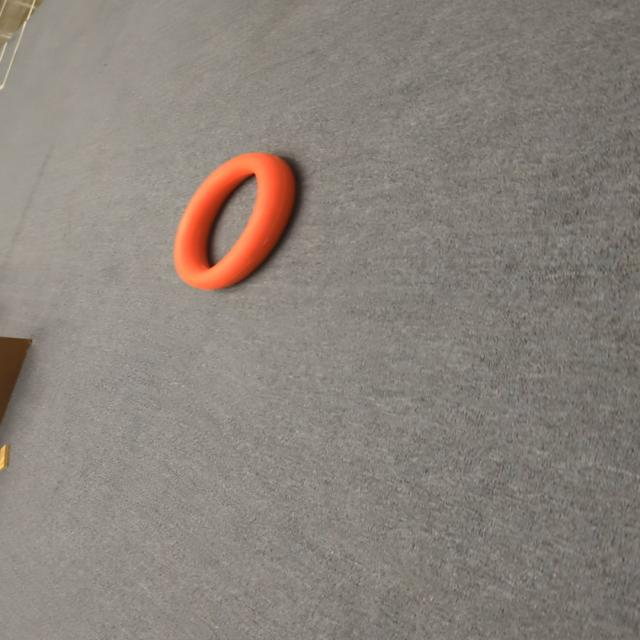note: (173, 151, 295, 290)
